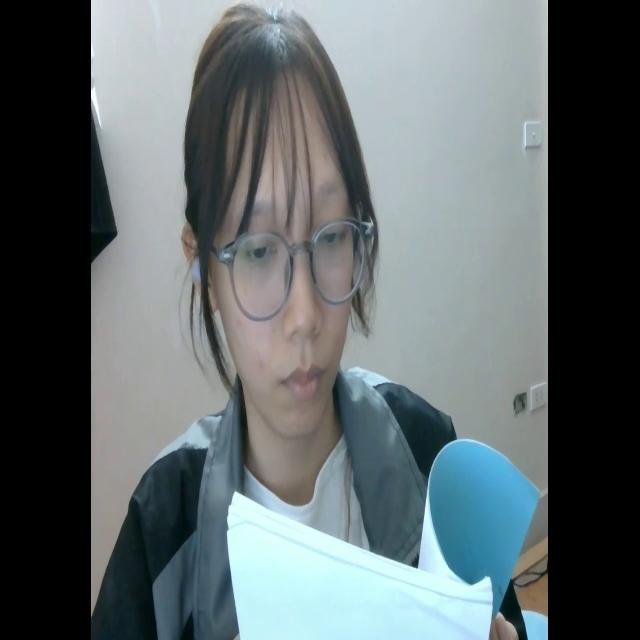book: (224, 432, 541, 640)
student: (102, 6, 528, 640)
